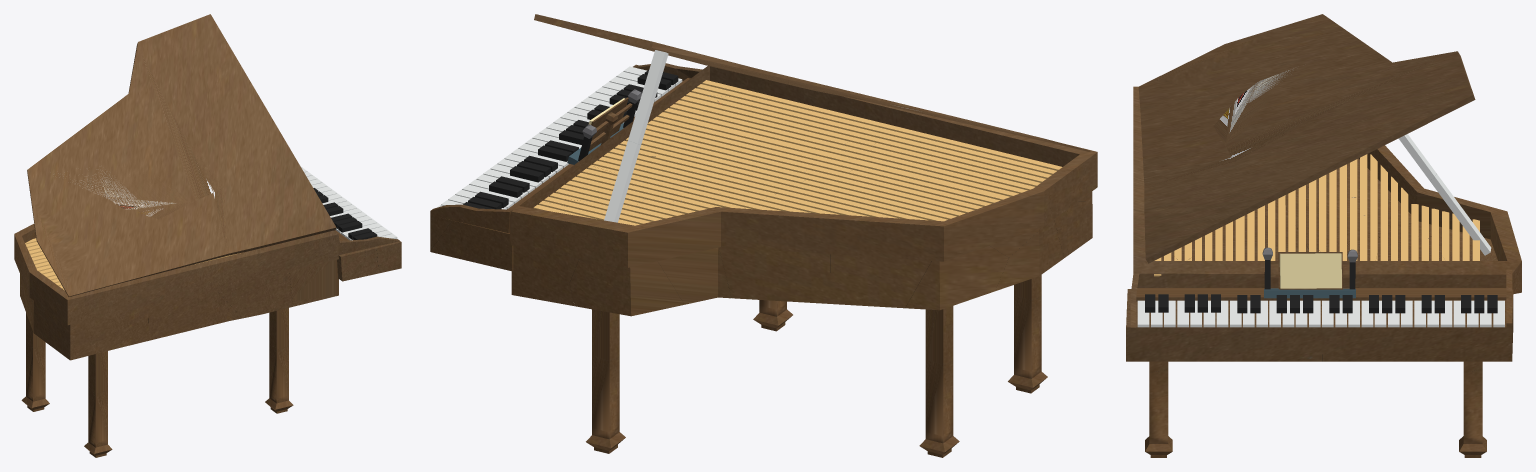
The model's file is Piano_Fractured.fbx.
3 views of the same model, side by side, from view 1: azimuth 30°, elevation 25°; view 2: azimuth 150°, elevation 25°; view 3: azimuth 270°, elevation 25° (orthographic). The views are drawn at different scales.
Parts seen in each view (by area): view 1: plant_02:piano.051, plant_02:piano, plant_02:piano.051_cell.002, plant_02:piano.051_cell.009, plant_02:piano.073_cell.012, plant_02:piano.073_cell.003, plant_02:piano.073_cell.007, plant_02:piano.051_cell.005, plant_02:piano.051_cell, plant_02:piano.073_cell.005, plant_02:piano.051_cell.004, plant_02:piano.151_cell.007 (+9 smaller); view 2: plant_02:piano, plant_02:piano.073_cell.006, plant_02:piano.073_cell.008, plant_02:piano.073_cell.009, plant_02:piano.073_cell.015, plant_02:piano.051, plant_02:piano.151_cell.007, plant_02:piano.073_cell.010, plant_02:piano.151_cell.005, plant_02:piano.151_cell.003, plant_02:piano.073_cell.013, plant_02:piano.054 (+40 smaller); view 3: plant_02:piano.051, plant_02:piano, plant_02:piano.147_cell.002, plant_02:piano.147_cell.006, plant_02:piano.051_cell.002, plant_02:piano.099, plant_02:piano.051_cell.009, plant_02:piano.051_cell.005, plant_02:piano.073_cell.006, plant_02:piano.151_cell.003, plant_02:piano.151_cell, plant_02:piano.073_cell.014 (+25 smaller).
Boxes of the visible parts, bbox=[...] form: plant_02:piano.051: bbox=[27, 14, 336, 296]; plant_02:piano: bbox=[14, 224, 399, 325]; plant_02:piano.051_cell.002: bbox=[102, 45, 268, 219]; plant_02:piano.051_cell.009: bbox=[137, 14, 237, 93]; plant_02:piano.073_cell.012: bbox=[44, 305, 148, 360]; plant_02:piano.073_cell.003: bbox=[148, 289, 242, 340]; plant_02:piano.073_cell.007: bbox=[216, 271, 293, 318]; plant_02:piano.051_cell.005: bbox=[31, 192, 87, 286]; plant_02:piano.051_cell: bbox=[181, 187, 284, 267]; plant_02:piano.073_cell.005: bbox=[289, 260, 338, 306]; plant_02:piano.051_cell.004: bbox=[63, 254, 180, 296]; plant_02:piano.151_cell.007: bbox=[21, 341, 49, 411]; plant_02:piano: bbox=[509, 63, 1097, 267]; plant_02:piano.073_cell.006: bbox=[719, 247, 830, 303]; plant_02:piano.073_cell.008: bbox=[569, 258, 684, 316]; plant_02:piano.073_cell.009: bbox=[830, 254, 931, 308]; plant_02:piano.073_cell.015: bbox=[905, 245, 1008, 310]; plant_02:piano.051: bbox=[534, 14, 1090, 151]; plant_02:piano.151_cell.007: bbox=[919, 359, 959, 457]; plant_02:piano.073_cell.010: bbox=[658, 247, 731, 304]; plant_02:piano.151_cell.005: bbox=[1008, 295, 1047, 393]; plant_02:piano.151_cell.003: bbox=[586, 355, 625, 453]; plant_02:piano.073_cell.013: bbox=[995, 219, 1063, 290]; plant_02:piano.054: bbox=[697, 84, 1056, 174]; plant_02:piano.051: bbox=[1140, 14, 1474, 263]; plant_02:piano: bbox=[1130, 86, 1521, 332]; plant_02:piano.147_cell.002: bbox=[1126, 301, 1322, 361]; plant_02:piano.147_cell.006: bbox=[1322, 306, 1512, 361]; plant_02:piano.051_cell.002: bbox=[1213, 52, 1452, 182]; plant_02:piano.099: bbox=[1279, 253, 1341, 288]; plant_02:piano.051_cell.009: bbox=[1366, 51, 1475, 132]; plant_02:piano.051_cell.005: bbox=[1154, 25, 1286, 86]; plant_02:piano.073_cell.006: bbox=[1285, 179, 1411, 249]; plant_02:piano.151_cell.003: bbox=[1459, 369, 1486, 457]; plant_02:piano.151_cell: bbox=[1145, 369, 1172, 457]; plant_02:piano.073_cell.014: bbox=[1171, 199, 1308, 260].
Size of the model in its own units: 1091 by 933 by 855.
